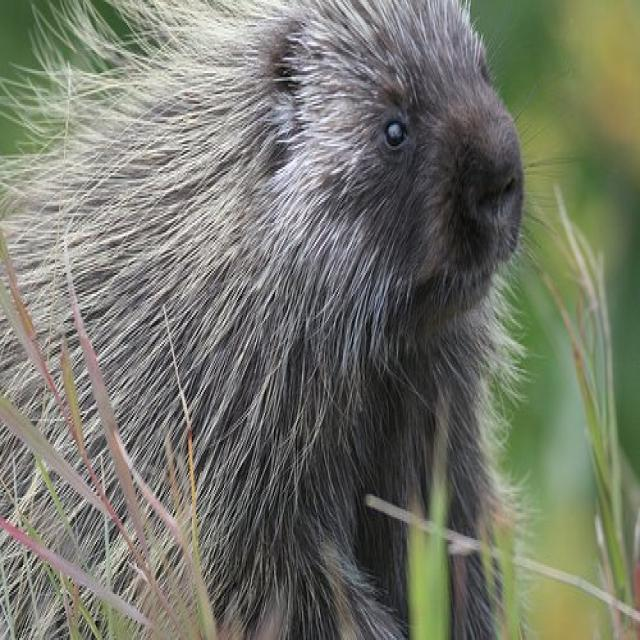Porcupine: (3, 24, 530, 578)
